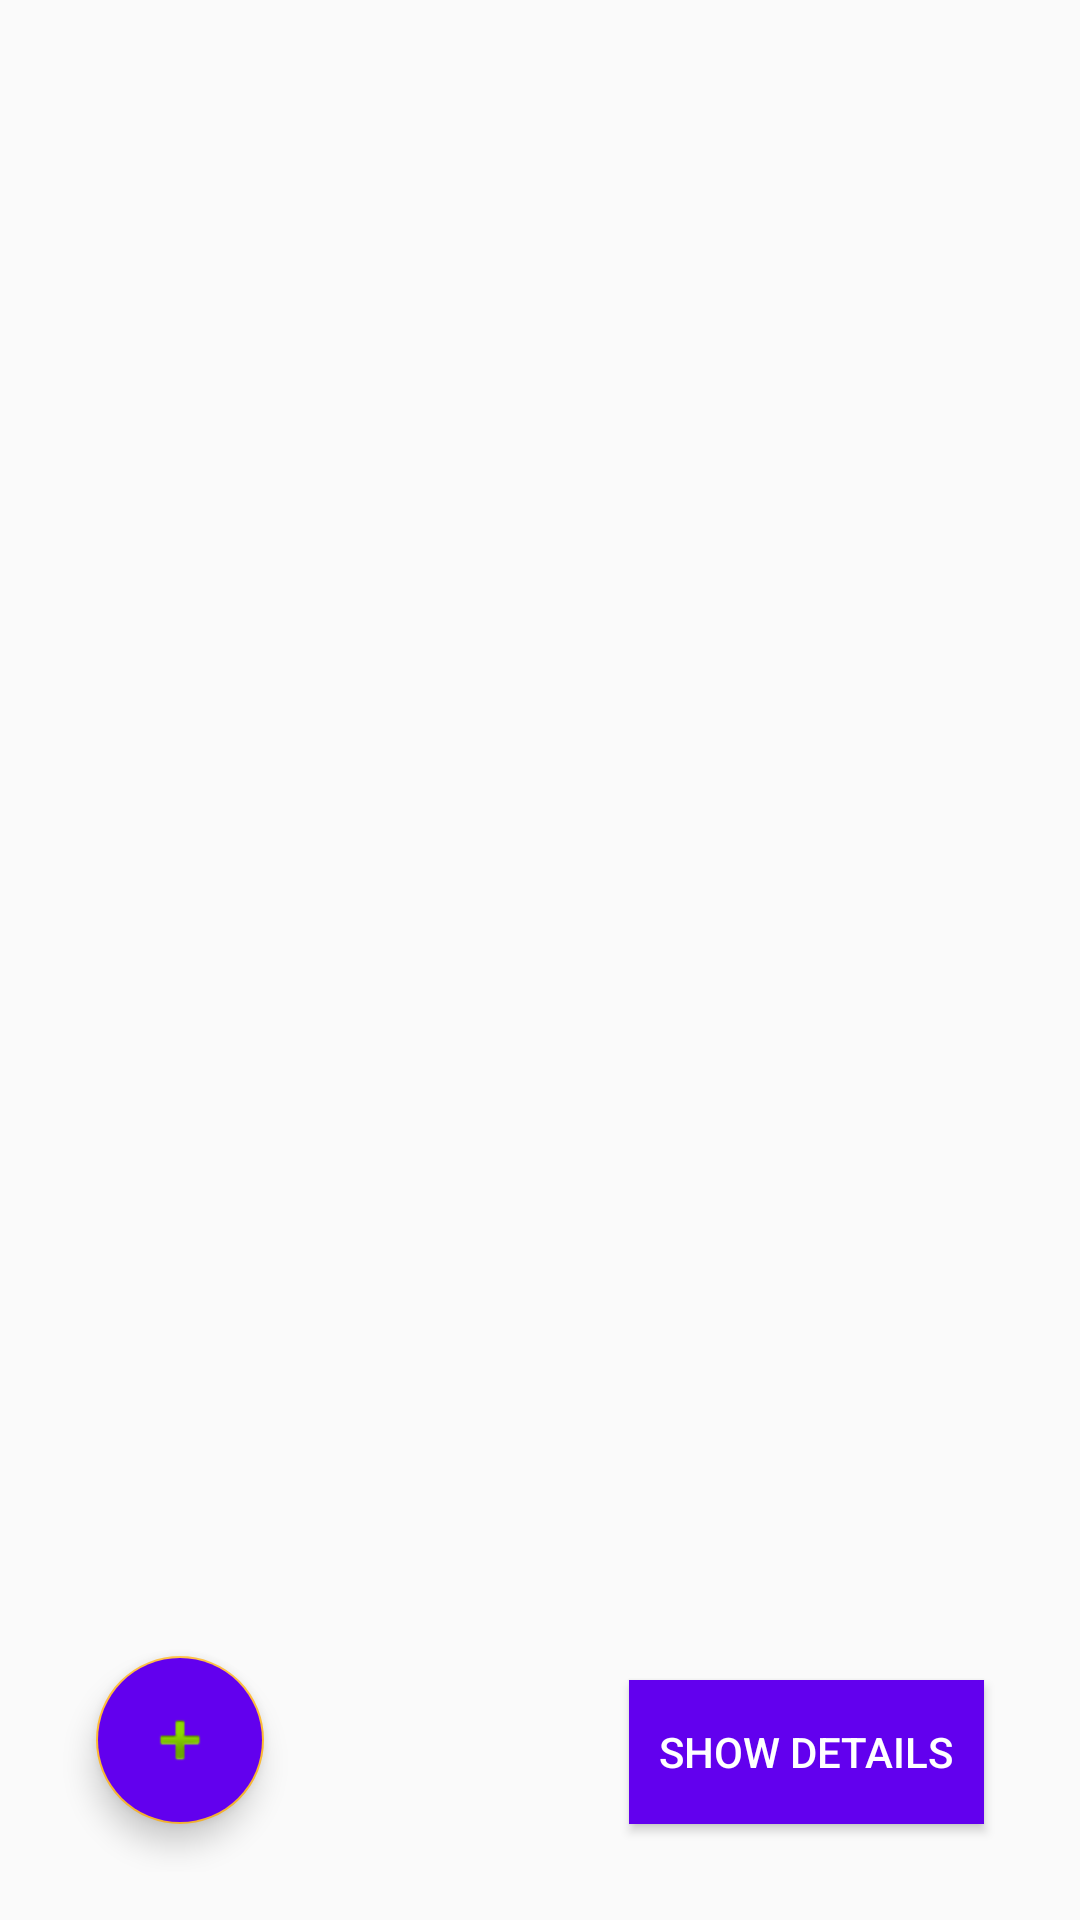

Icon click points for this 1080*1920 phone screenshot, format (x,y):
add: (180,1740)
